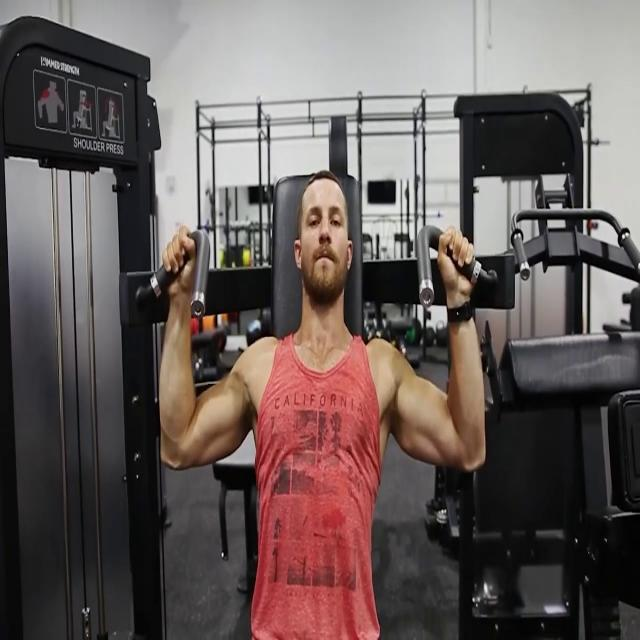Shoulder press: (135, 146, 504, 640)
